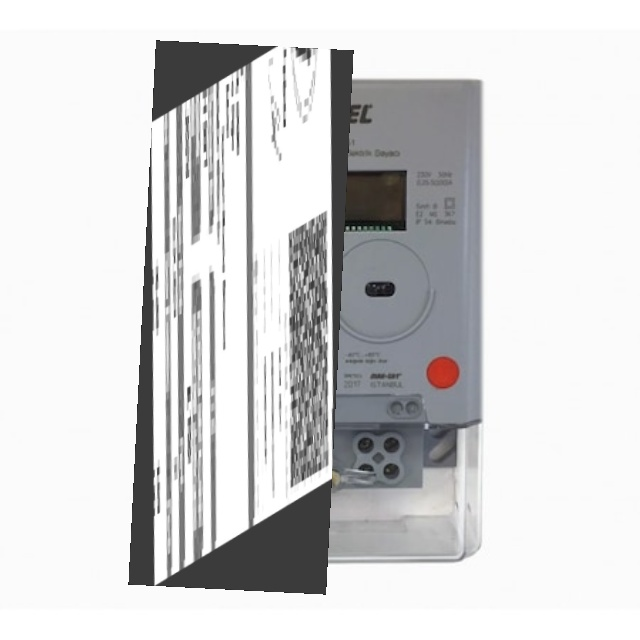electricity-bill: (127, 39, 353, 594)
